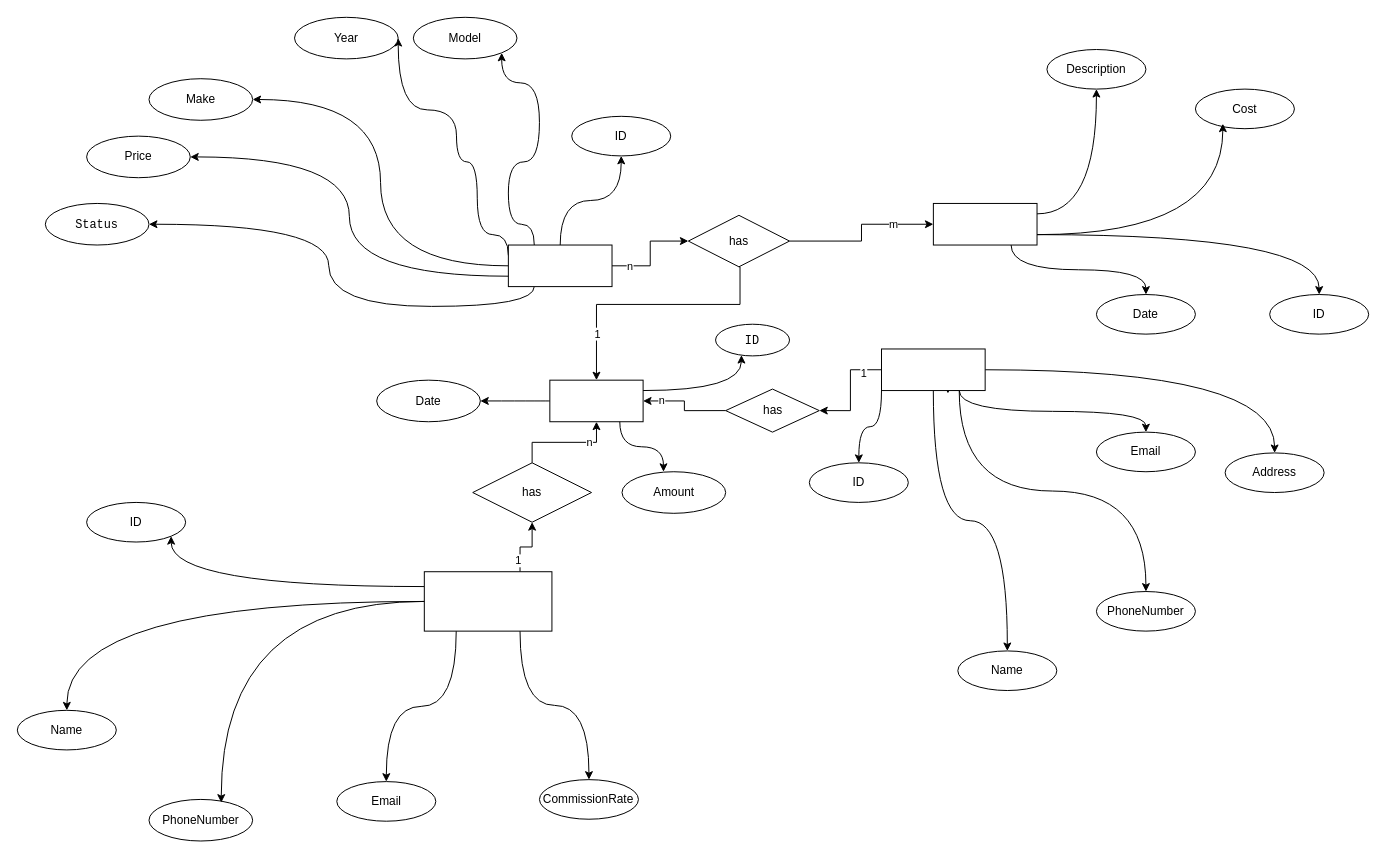
Image size: 1386x858. Some labels were removed from this diagram. Each missing label, with the centre of its shape:
Car: [559,265]
Customer: [933,369]
Order: [596,400]
Salesperson: [487,601]
Service: [984,223]
